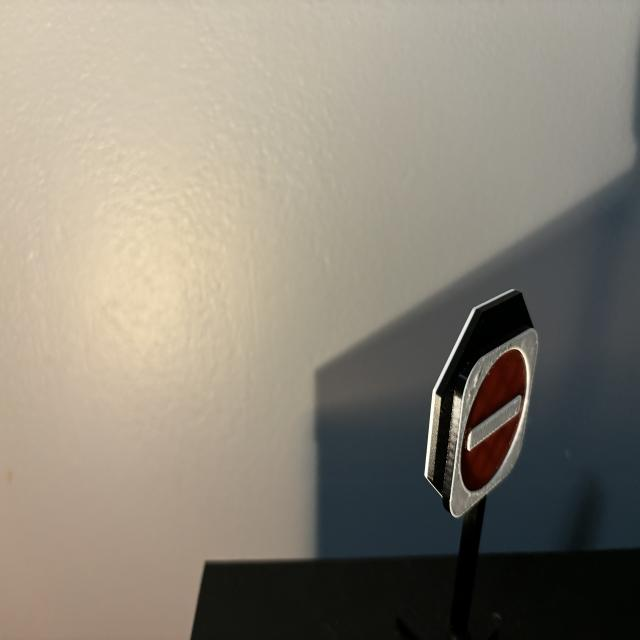sign_noentry: (452, 330, 539, 519)
